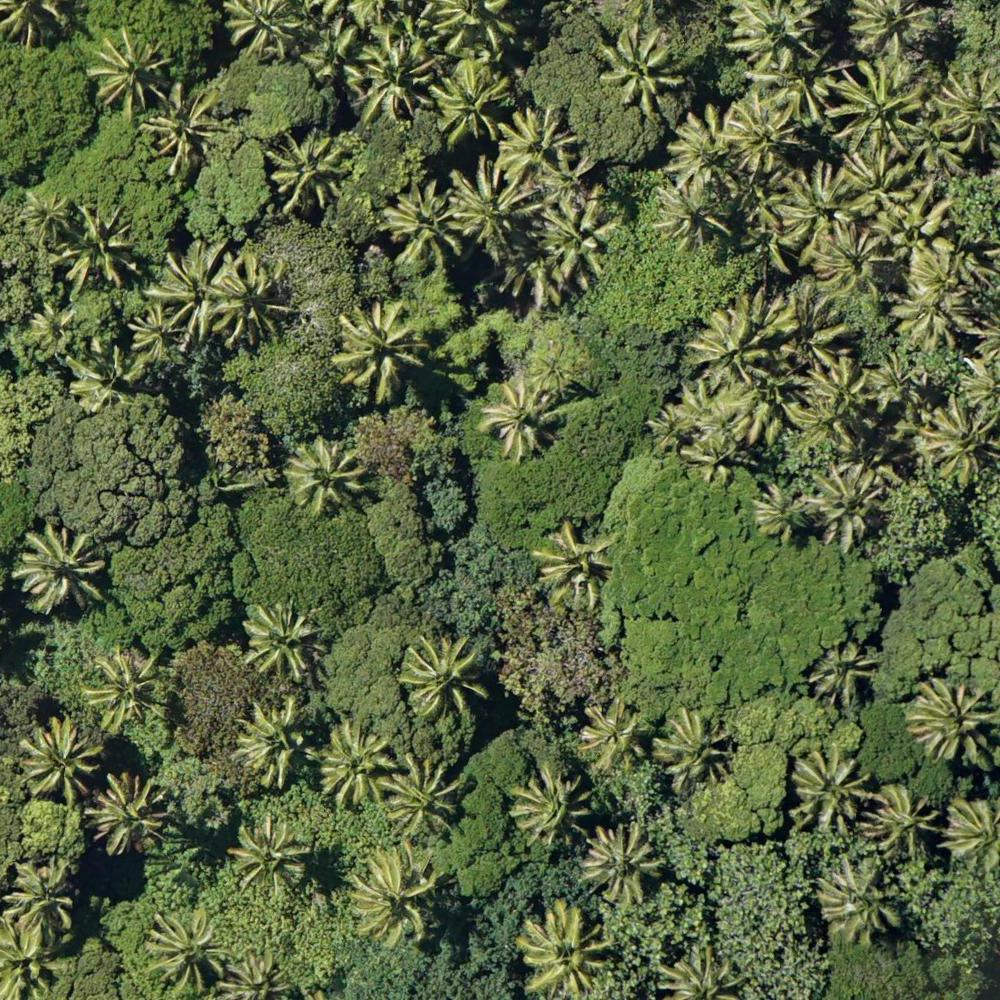Palm: (518, 896, 613, 991), (830, 58, 925, 152), (334, 298, 423, 397), (781, 161, 868, 262), (149, 241, 237, 336), (908, 676, 1000, 765), (350, 849, 437, 942), (15, 525, 105, 614), (348, 31, 436, 121), (214, 256, 297, 350), (532, 514, 614, 608), (446, 157, 526, 252), (817, 855, 907, 939), (89, 30, 173, 116), (54, 206, 140, 290), (379, 751, 465, 835), (536, 190, 617, 279), (687, 307, 772, 391), (145, 906, 228, 992), (380, 179, 462, 263), (726, 1, 820, 74), (404, 635, 487, 717), (601, 26, 684, 107), (787, 747, 868, 830), (148, 85, 223, 174), (891, 280, 980, 354), (265, 132, 348, 211), (84, 648, 163, 731), (236, 699, 312, 785), (654, 710, 736, 789), (583, 821, 661, 904), (429, 60, 506, 144), (811, 464, 890, 545), (18, 721, 100, 799), (511, 766, 589, 847), (319, 724, 397, 805), (66, 338, 148, 415), (923, 399, 1000, 481), (497, 105, 573, 188), (861, 781, 940, 859), (91, 775, 168, 854), (757, 52, 835, 128), (483, 376, 555, 458), (818, 221, 891, 299), (245, 601, 319, 677), (652, 178, 730, 250), (932, 74, 1000, 156), (780, 385, 856, 458), (778, 285, 848, 364), (4, 860, 74, 939), (848, 146, 920, 222), (729, 98, 803, 171), (233, 817, 307, 890), (578, 705, 653, 777), (673, 114, 743, 189), (217, 1, 297, 65), (907, 233, 982, 301), (809, 639, 880, 709), (846, 1, 932, 58), (298, 16, 364, 85), (808, 355, 871, 416), (861, 359, 924, 415), (753, 483, 811, 541), (128, 305, 185, 363), (23, 186, 74, 247), (28, 300, 75, 351)
